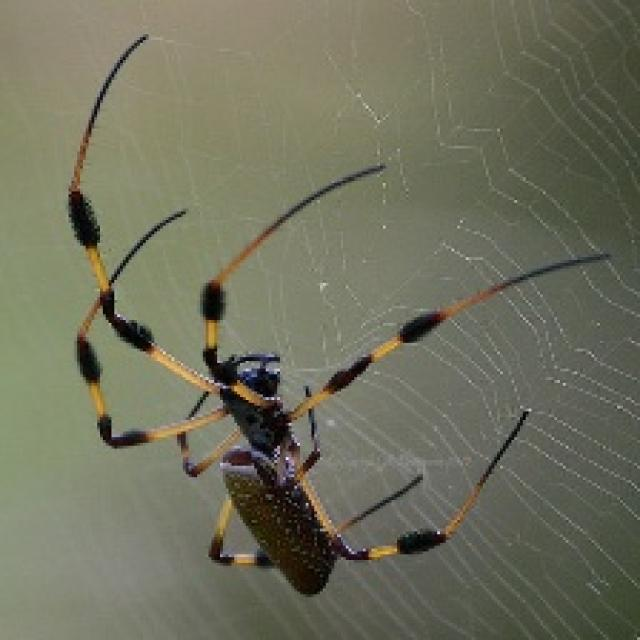Non venomous spider: (49, 28, 559, 612)
